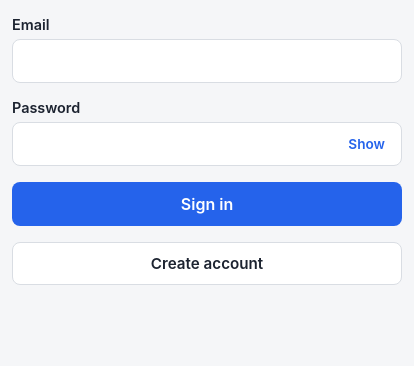
Test: SignInForm › shows the generic non-enumerating message for invalid credentials
Type "ana@example.com" into the field labelled "Email" at (207, 61), box [12,39,402,83]
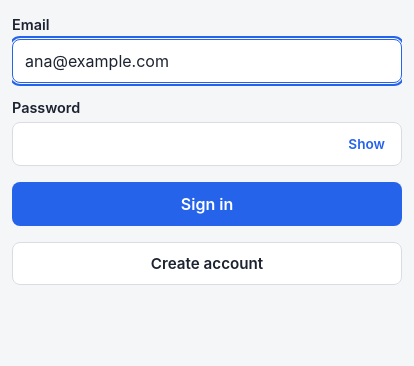
Type "wrong-password" into the password field labelled "Password" at (207, 144), box [12,122,402,166]
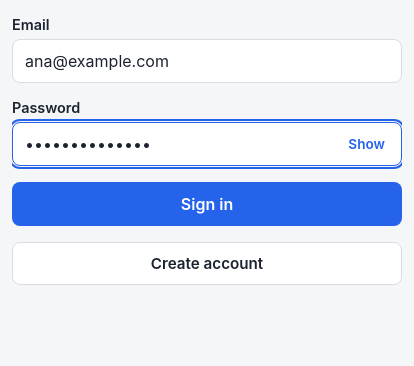
Click the button "Sign in" at (207, 204), box [12,182,402,226]
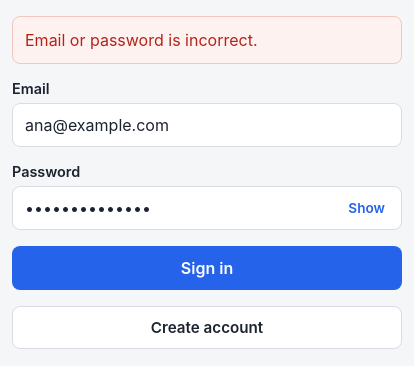
Expected: the text "Email or password is incorrect." is shown, [12,16,402,64]
